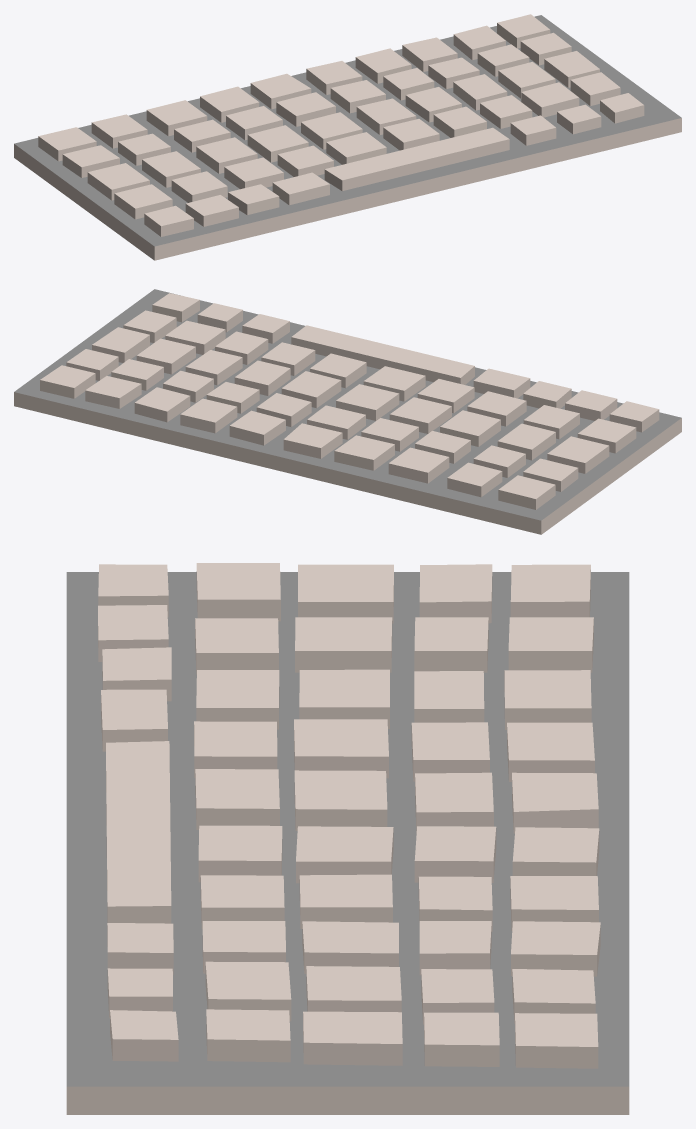
The model's file is Keyboard_3.fbx.
3 renders of one model, top to bottom at view 1: azimuth 30°, elevation 25°; view 2: azimuth 150°, elevation 25°; view 3: azimuth 270°, elevation 25°, orthographic. The views are drawn at different scales.
Visible parts, largest first — view 1: Keyboard_3; view 2: Keyboard_3; view 3: Keyboard_3.
Boxes of the visible parts, <box> form: Keyboard_3: <box>14,14,681,260</box>; Keyboard_3: <box>14,289,681,534</box>; Keyboard_3: <box>66,563,629,1114</box>.
Size of the model in its own units: 70.25 by 32.45 by 3.19.
